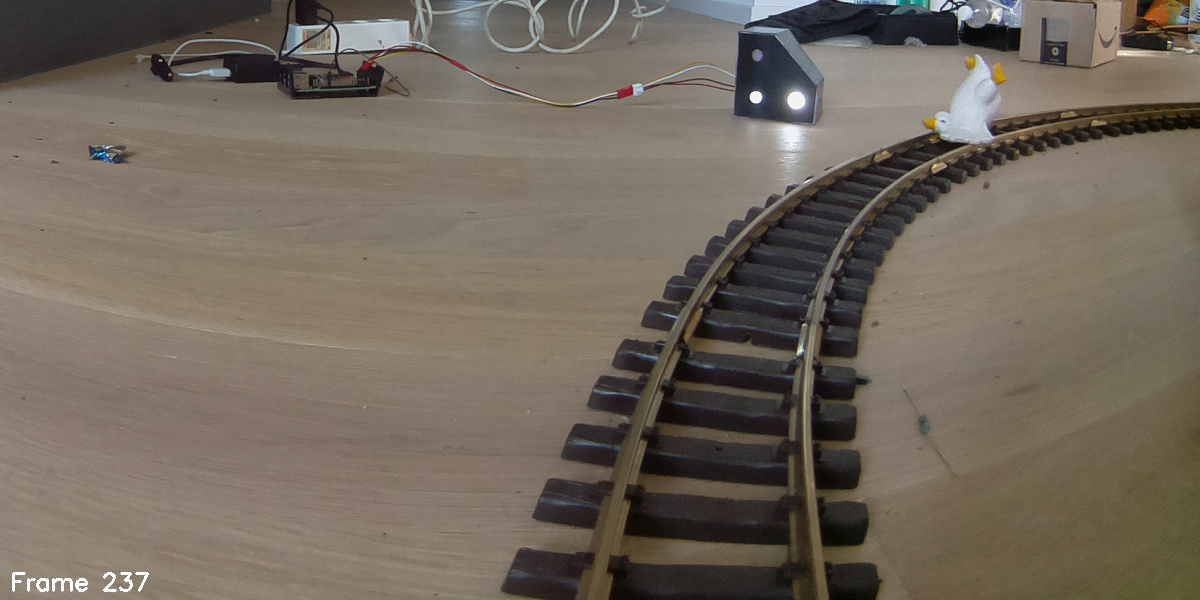Ente: (919, 54, 1009, 152)
Halt: (736, 26, 824, 123)
